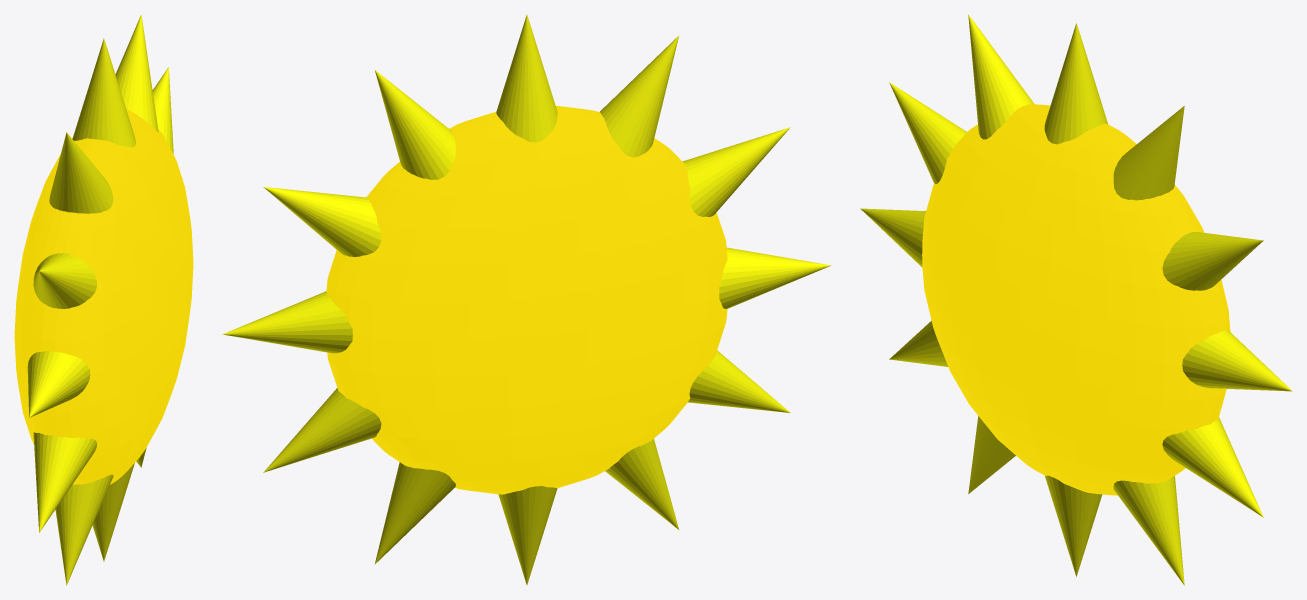
File: sun.glb
The picture shows the model from 3 angles, left to right: view 1: azimuth 30°, elevation 25°; view 2: azimuth 150°, elevation 25°; view 3: azimuth 270°, elevation 25°; orthographic projection. The views are drawn at different scales.
Visible parts, largest first — view 1: body, 刺; view 2: body, 刺; view 3: body, 刺.
Boxes of the visible parts, x1,y1,x2,y2 form: body: (14, 110, 193, 484); 刺: (27, 14, 173, 585); body: (326, 105, 727, 494); 刺: (222, 15, 831, 584); body: (922, 104, 1230, 495); 刺: (860, 14, 1292, 585).
Bounding box in the file's own units: 0.7064 × 0.999 × 0.7064.
